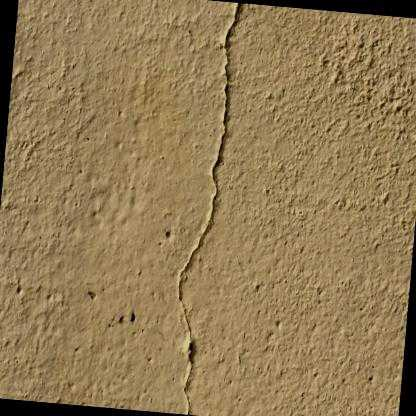crack: (176, 2, 240, 415)
